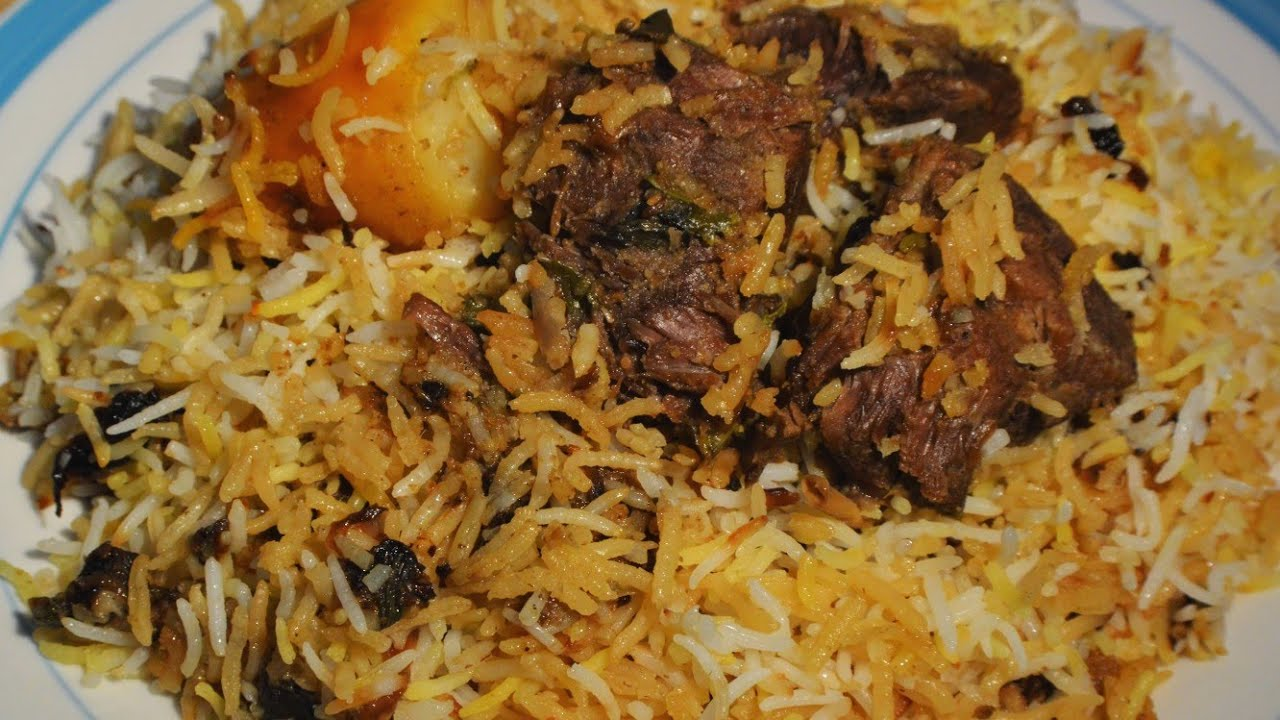Biryani: (54, 31, 1265, 685)
